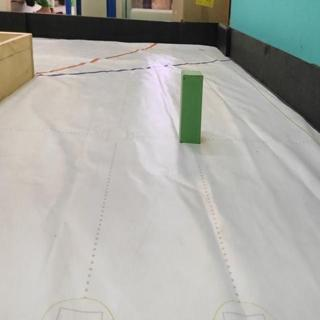greenbox: (179, 67, 204, 143)
